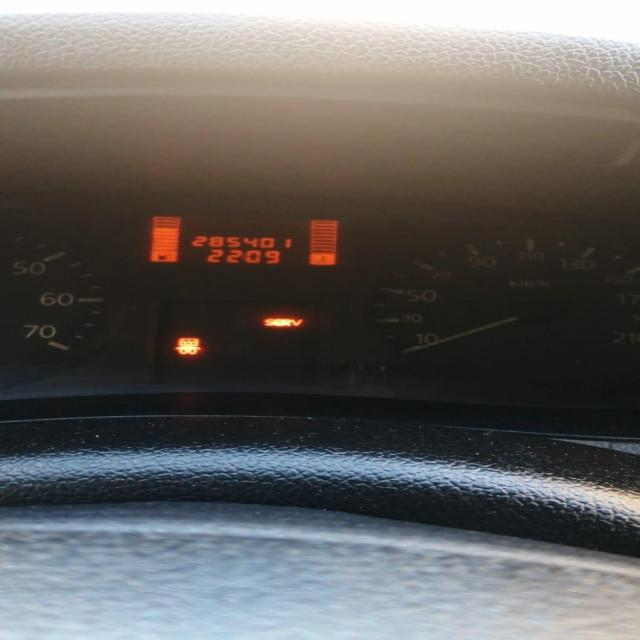odometer: (140, 212, 341, 267)
